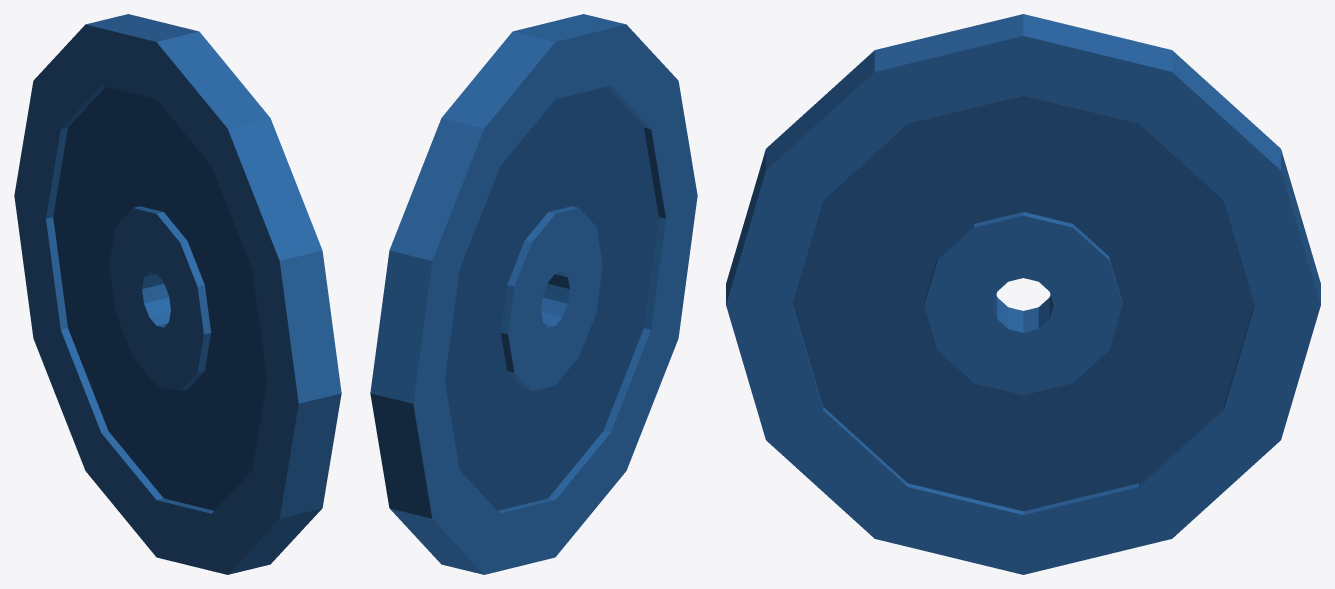
Rendered from SM_Prop_Gym_Plate_01.obj.
The picture shows the model from 3 angles, left to right: view 1: azimuth 30°, elevation 25°; view 2: azimuth 150°, elevation 25°; view 3: azimuth 270°, elevation 25°; orthographic projection. The views are drawn at different scales.
Visible parts, largest first — view 1: SM_Prop_Gym_Plate_01_0; view 2: SM_Prop_Gym_Plate_01_0; view 3: SM_Prop_Gym_Plate_01_0.
Part boxes in pixels (x1,y1,x2,y2): SM_Prop_Gym_Plate_01_0: (14,14,341,574); SM_Prop_Gym_Plate_01_0: (370,14,697,574); SM_Prop_Gym_Plate_01_0: (726,14,1320,574).
Bounding box in the file's own units: 0.0438 × 0.5023 × 0.5023.
Materials: 1 (1 with a texture image).
